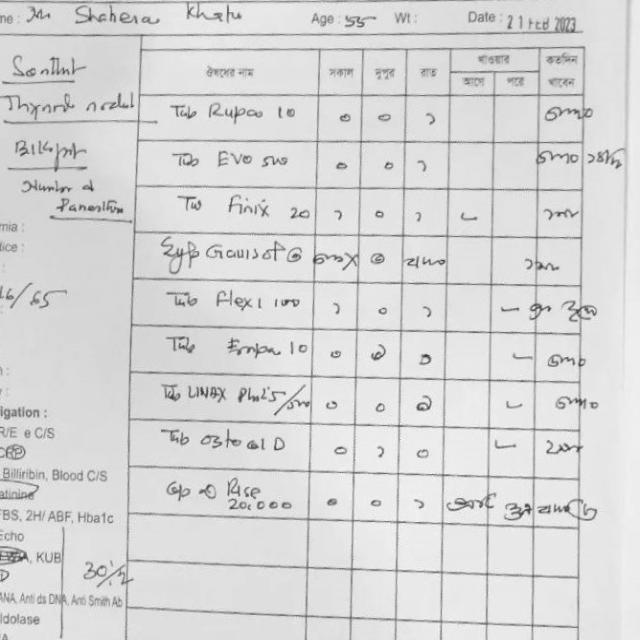medicine: (196, 427, 290, 458), (201, 236, 287, 268), (199, 95, 270, 132), (183, 378, 266, 407), (196, 472, 270, 502), (221, 189, 279, 226), (210, 283, 269, 319), (223, 332, 283, 366), (214, 145, 258, 171)
